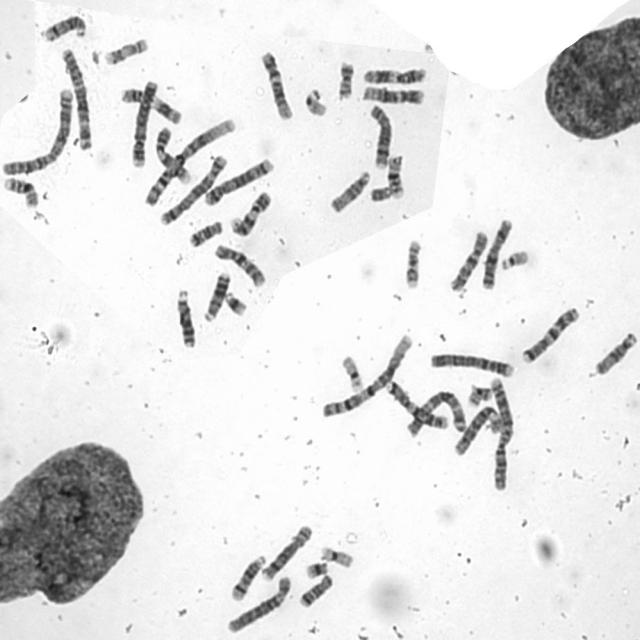A1: (142, 115, 237, 209), (319, 330, 416, 420)
A2: (0, 85, 76, 177), (487, 372, 515, 493)
A3: (58, 44, 94, 152), (404, 388, 467, 438)
B4: (128, 77, 160, 168), (426, 349, 516, 379)
B5: (157, 151, 229, 227), (201, 155, 275, 207)
C10: (446, 228, 489, 292), (211, 240, 267, 288)
C11: (118, 85, 182, 125), (359, 64, 428, 87)
C12: (258, 47, 294, 121), (359, 82, 425, 106)
C6: (224, 572, 294, 634), (452, 403, 503, 457)
C7: (518, 303, 581, 366), (383, 378, 449, 431)
C8: (259, 522, 314, 582), (366, 100, 394, 170)
C9: (152, 124, 193, 185), (227, 188, 273, 238)
D13: (201, 268, 232, 322), (174, 286, 196, 348)
D14: (228, 551, 267, 603), (40, 12, 87, 42)
D15: (592, 329, 638, 376), (327, 168, 373, 215)
E16: (2, 174, 40, 208), (384, 151, 406, 200)
E17: (101, 35, 149, 67), (403, 238, 422, 292)
E18: (296, 572, 334, 608), (186, 218, 223, 248)
F19: (317, 542, 355, 569), (340, 351, 365, 392)
F20: (335, 58, 356, 102), (465, 383, 494, 408)
G21: (223, 289, 248, 317), (304, 558, 330, 580)
G22: (301, 85, 329, 118), (498, 247, 530, 271)
X: (479, 216, 513, 291)
Y: (368, 182, 394, 202)
